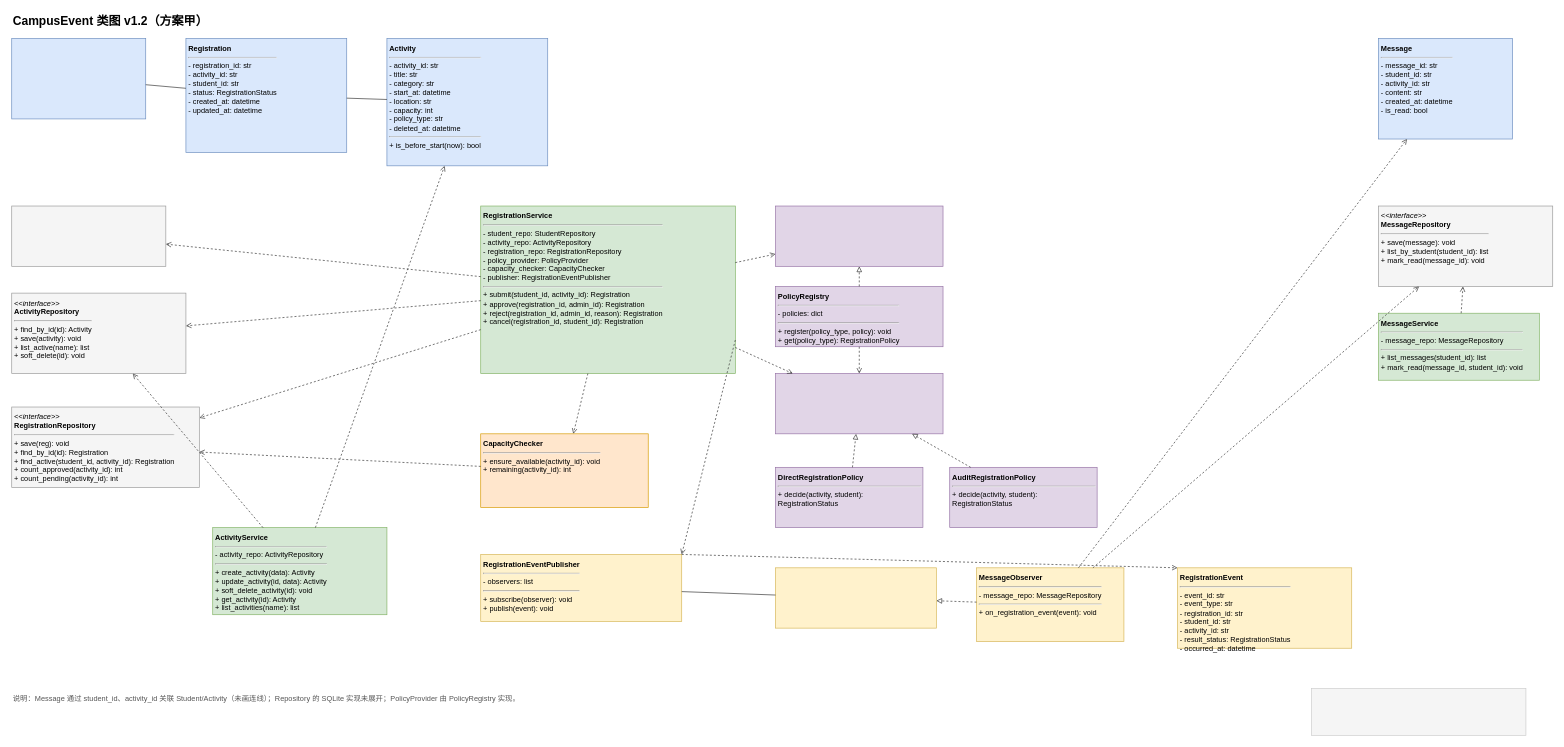
The diagram is 1564 pixels wide and 747 high, and some of its shapes have lost their labels. Here are the shapes that lost their labels. From the top down, the centre of each, then its label:
pixel 78 78: Student - student_id: str - name: str
pixel 88 235: <<interface>> StudentRepository + find_by_id(id): Student
pixel 859 235: <<interface>> PolicyProvider + get(policy_type): RegistrationPolicy
pixel 859 403: <<interface>> RegistrationPolicy + decide(activity, student): RegistrationStatus
pixel 855 597: <<interface>> RegistrationObserver + on_registration_event(event): void
pixel 1418 711: 版本：v1.2 | 日期：2026-11-22 | 阶段：CR 前基线段（baseline-v1） | 方案：甲
